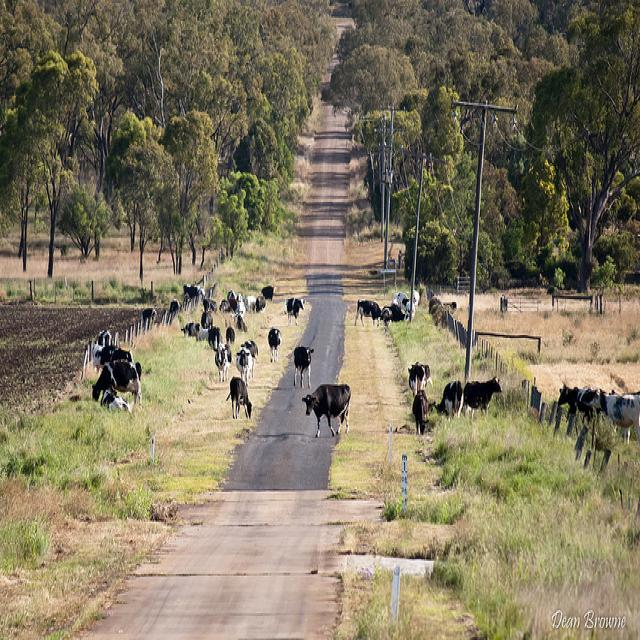cow: (97, 295, 428, 434), (88, 280, 432, 401), (300, 381, 349, 437), (90, 357, 140, 404), (462, 372, 500, 419), (433, 379, 463, 421), (225, 376, 251, 418), (291, 344, 313, 387), (352, 296, 381, 326), (212, 339, 231, 380), (267, 328, 282, 361), (227, 290, 245, 314), (207, 323, 220, 344), (201, 296, 216, 313)
